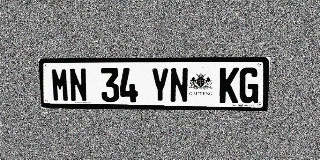3: (101, 68, 119, 102)
4: (119, 68, 138, 102)
G: (239, 67, 259, 103)
K: (219, 68, 239, 103)
M: (51, 68, 70, 102)
N: (69, 68, 88, 102), (170, 68, 188, 103)
Y: (151, 68, 169, 103)
